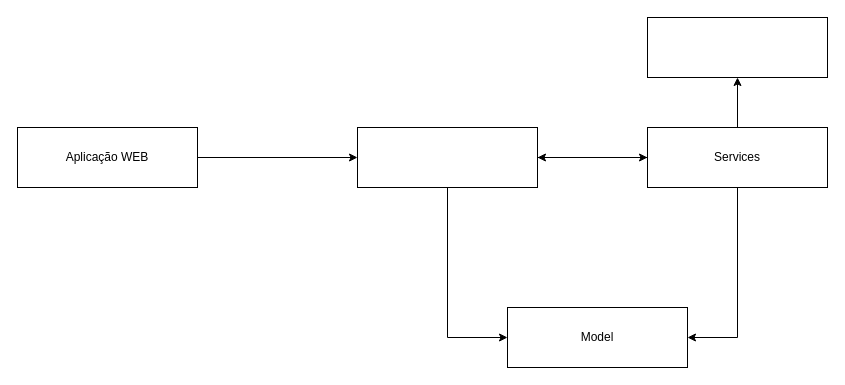
Some shapes in this 845 by 385 pixel diagram are drawn without their labels. Each missing label, with the centre of its shape:
"Banco de Dados" goes at (737,47).
"View" goes at (447,157).
